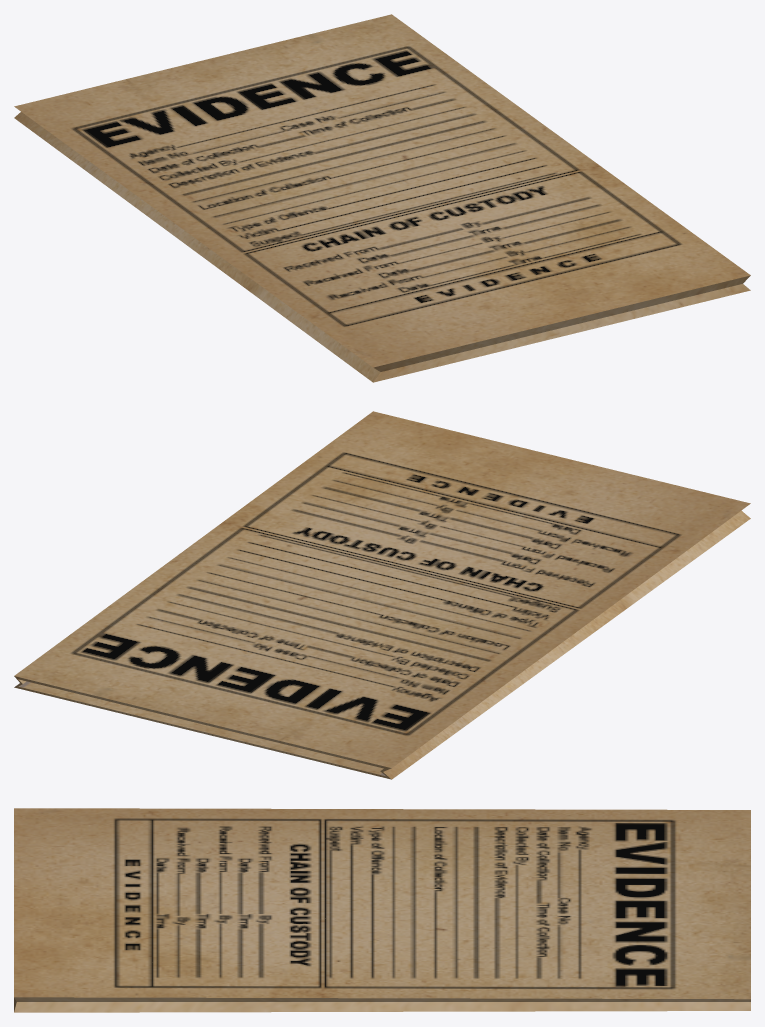
Rendered from evidence_bags_01_flat.fbx.
The picture shows the model from 3 angles, top to bottom: view 1: azimuth 30°, elevation 25°; view 2: azimuth 150°, elevation 25°; view 3: azimuth 270°, elevation 25°; orthographic projection. The views are drawn at different scales.
Parts seen in each view (by area): view 1: Evidence bag flat; view 2: Evidence bag flat; view 3: Evidence bag flat.
Part boxes in pixels (x1,y1,x2,y2): Evidence bag flat: (14, 14, 750, 382); Evidence bag flat: (14, 411, 750, 779); Evidence bag flat: (14, 808, 750, 1012).
Size of the model in its own units: 32.69 by 1.25 by 53.83.
